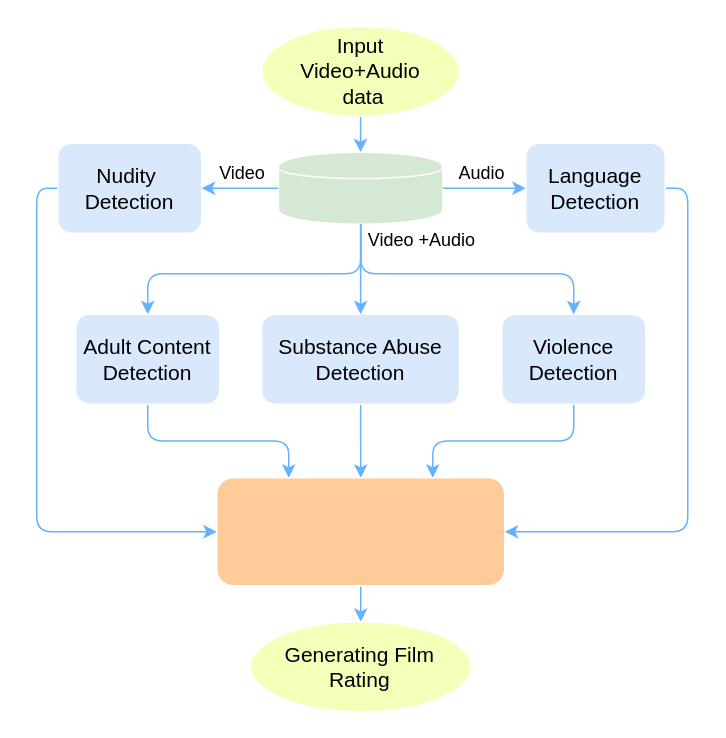
Some shapes in this 726 by 738 pixel diagram are drawn without their labels. The centre of each missing label's shape, as x and y in pixels:
"Combining All Content Detection" belongs at point (360, 531).
"Preprocessing" belongs at point (360, 187).
